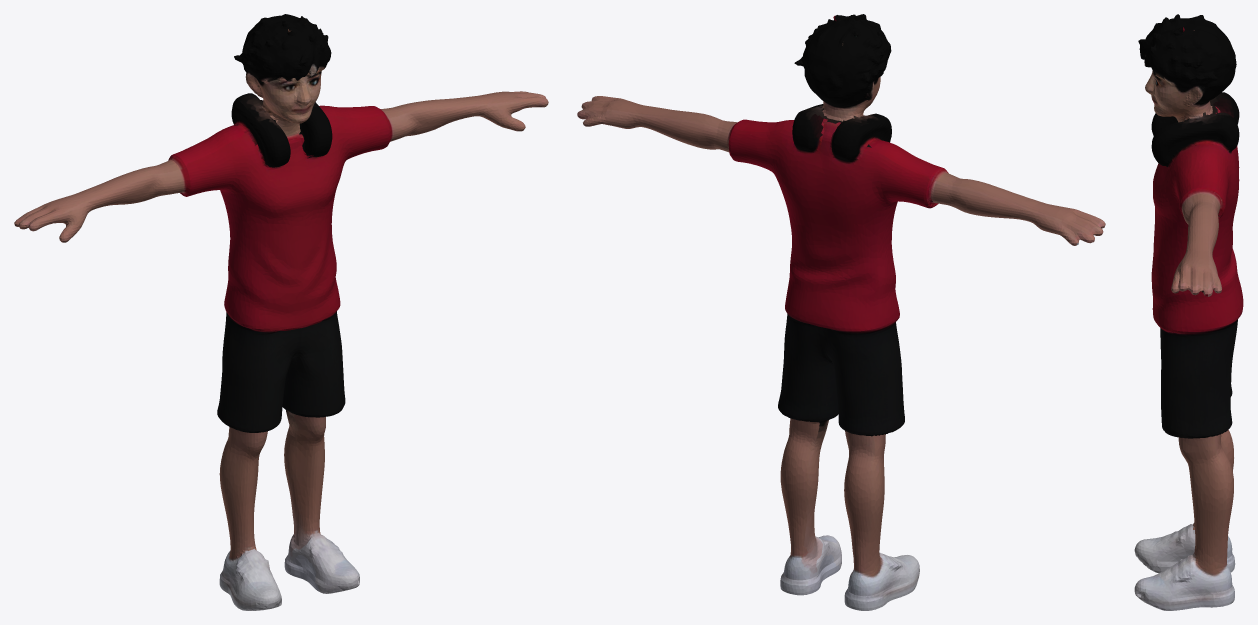
The model's file is hamada.glb.
3 views of the same model, side by side, from view 1: azimuth 30°, elevation 25°; view 2: azimuth 150°, elevation 25°; view 3: azimuth 270°, elevation 25° (orthographic).
Visible parts, largest first — view 1: tmpc5m7oh2w.ply; view 2: tmpc5m7oh2w.ply; view 3: tmpc5m7oh2w.ply.
Part boxes in pixels (<box>): tmpc5m7oh2w.ply: <box>14,14,548,610</box>; tmpc5m7oh2w.ply: <box>577,14,1105,610</box>; tmpc5m7oh2w.ply: <box>1134,14,1243,610</box>.
Size of the model in its own units: 1.91 by 1.99 by 0.3466.
1 material, 1 textured.
